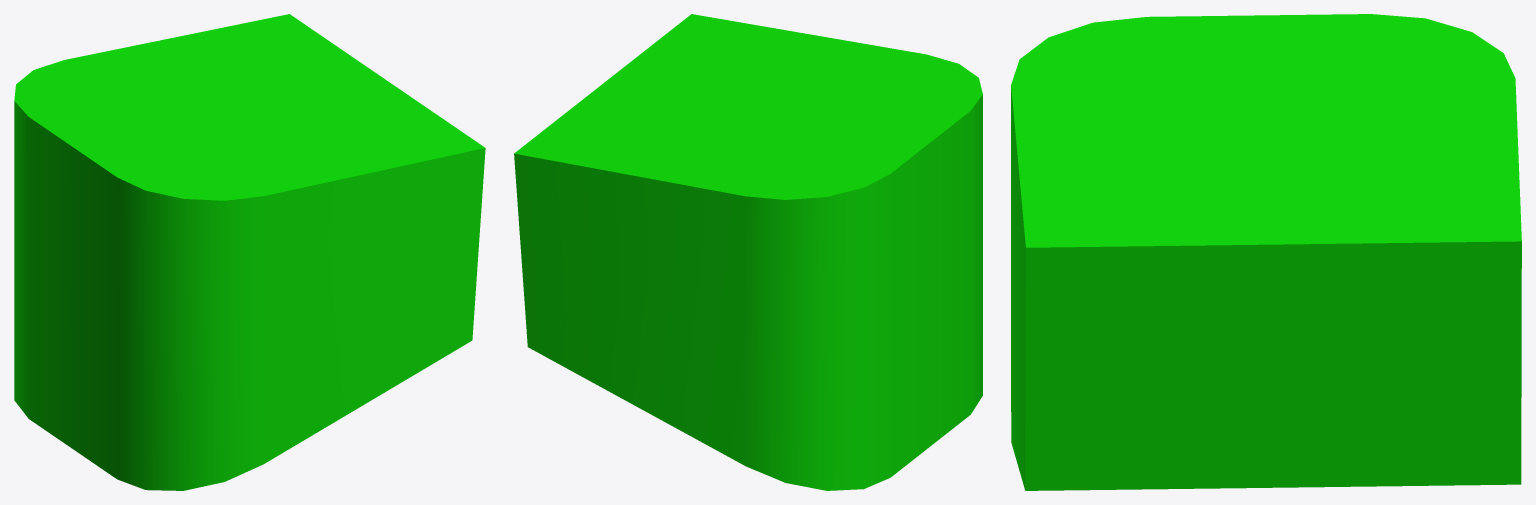
File: sm_castle_035.fbx
3 renders of one model, left to right at view 1: azimuth 30°, elevation 25°; view 2: azimuth 150°, elevation 25°; view 3: azimuth 270°, elevation 25°, orthographic. The views are drawn at different scales.
Parts seen in each view (by area): view 1: sm_castle.035; view 2: sm_castle.035; view 3: sm_castle.035.
Boxes of the visible parts, <box> form: sm_castle.035: <box>14,14,485,490</box>; sm_castle.035: <box>514,14,982,490</box>; sm_castle.035: <box>1011,14,1521,490</box>.
Bounding box in the file's own units: 296 × 261 × 300.
